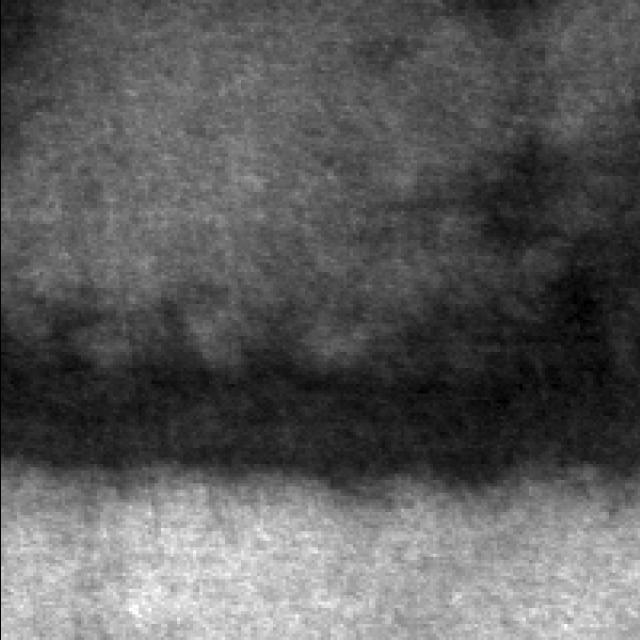patches: (8, 331, 640, 491)
